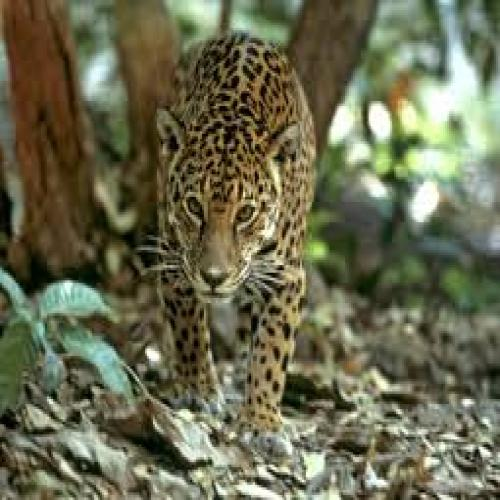jaguar_not-endangered: (157, 31, 314, 420)
